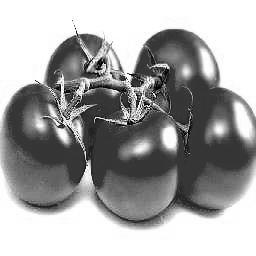bukan telur: (4, 84, 88, 206), (94, 107, 179, 224), (179, 87, 256, 216), (136, 27, 217, 114)
